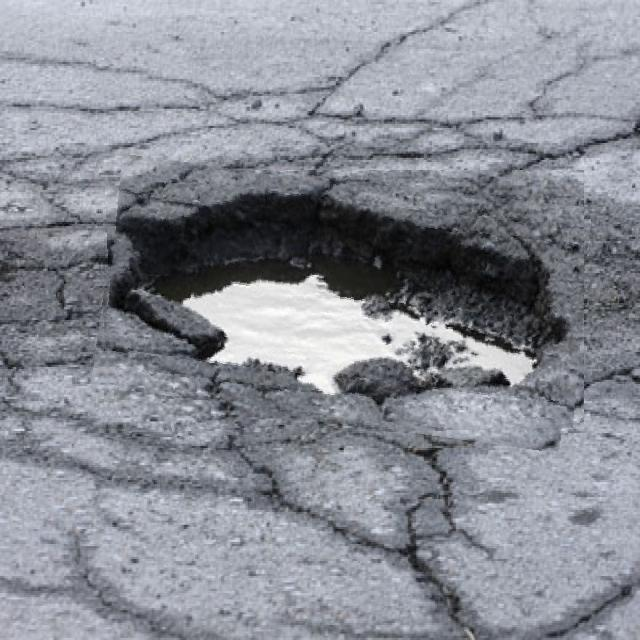Pothole: (97, 170, 584, 438)
